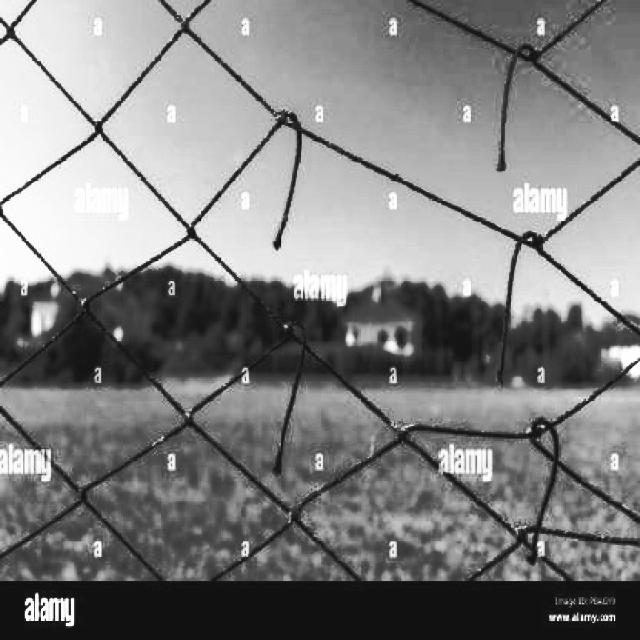anomaly-fence: (201, 1, 638, 491)
